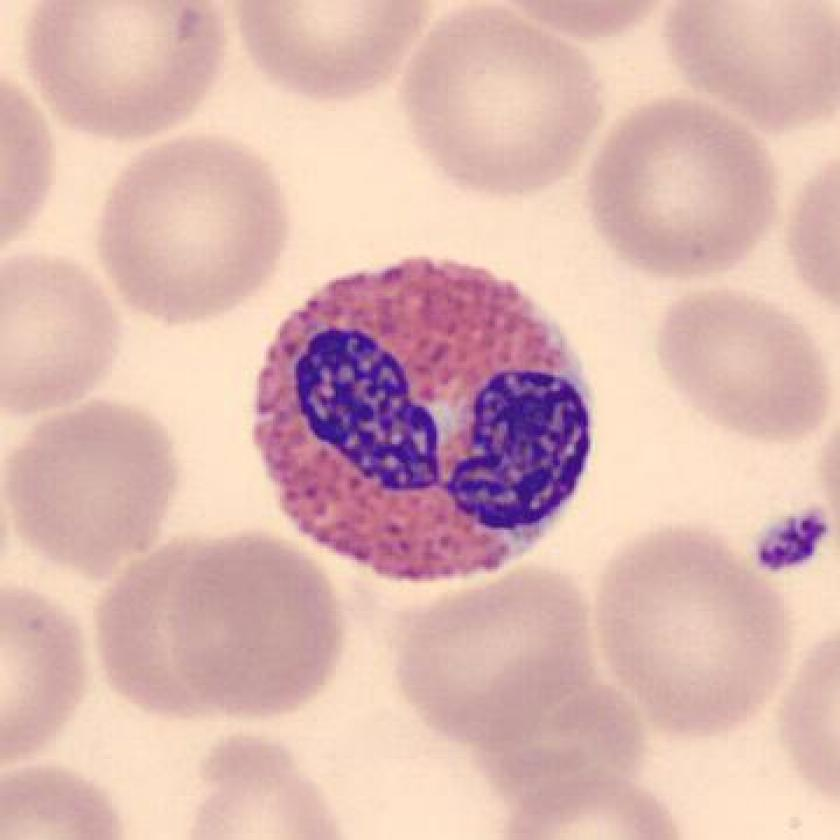eosinophil: (241, 242, 608, 605)
